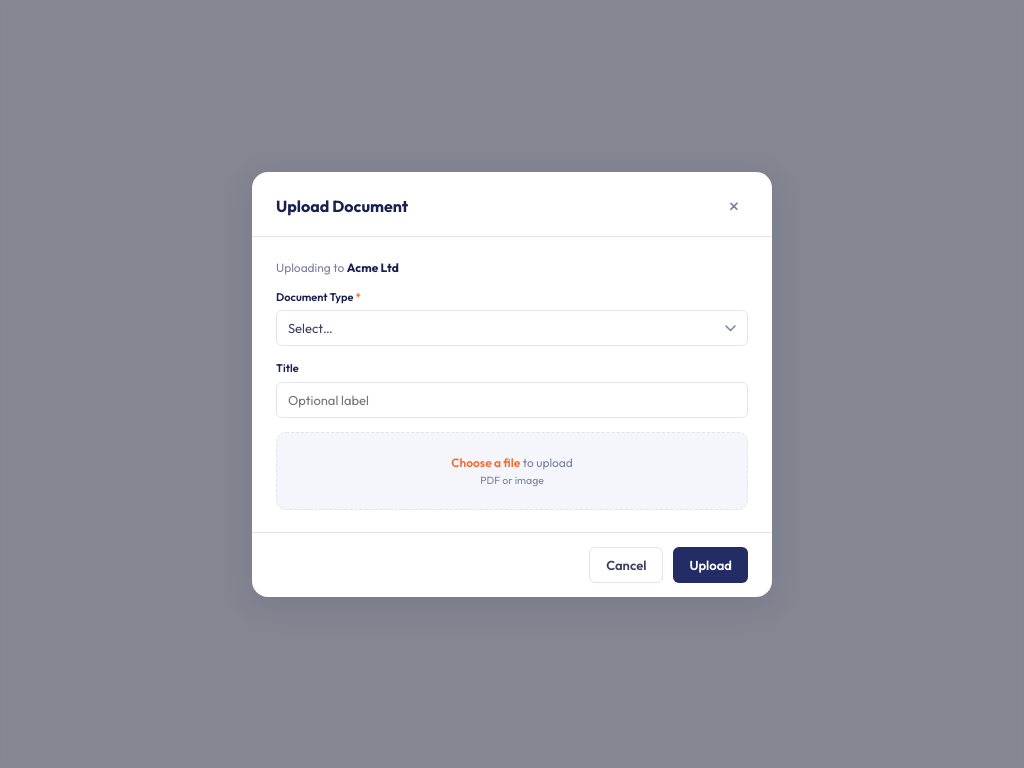
Scenario: UploadDocumentModal › requires a file and a type
Click the button "Upload": [711, 564] box [673,546,748,582]
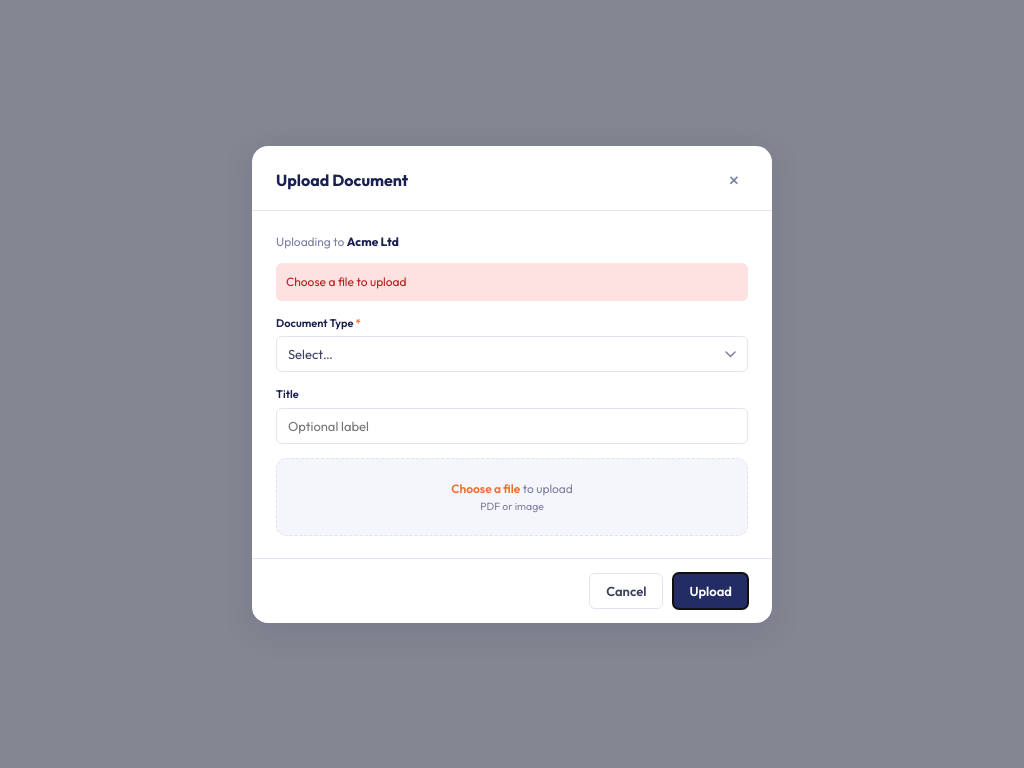
Expected: the text "Choose a file to upload" is shown, [276,262,748,300]
